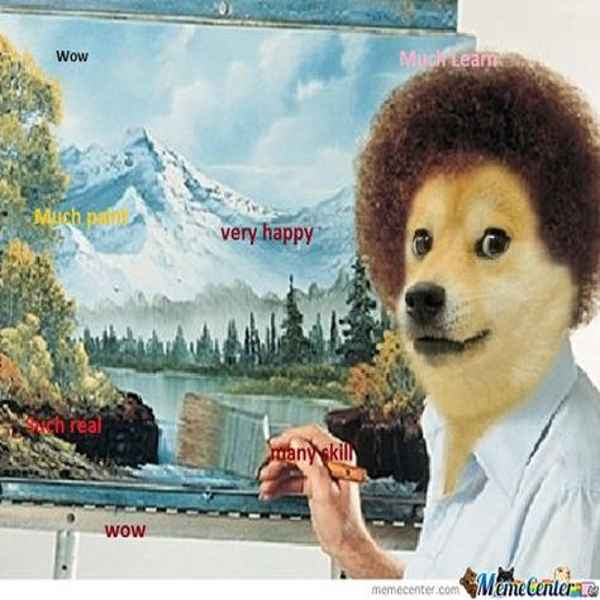doge: (387, 161, 568, 410)
